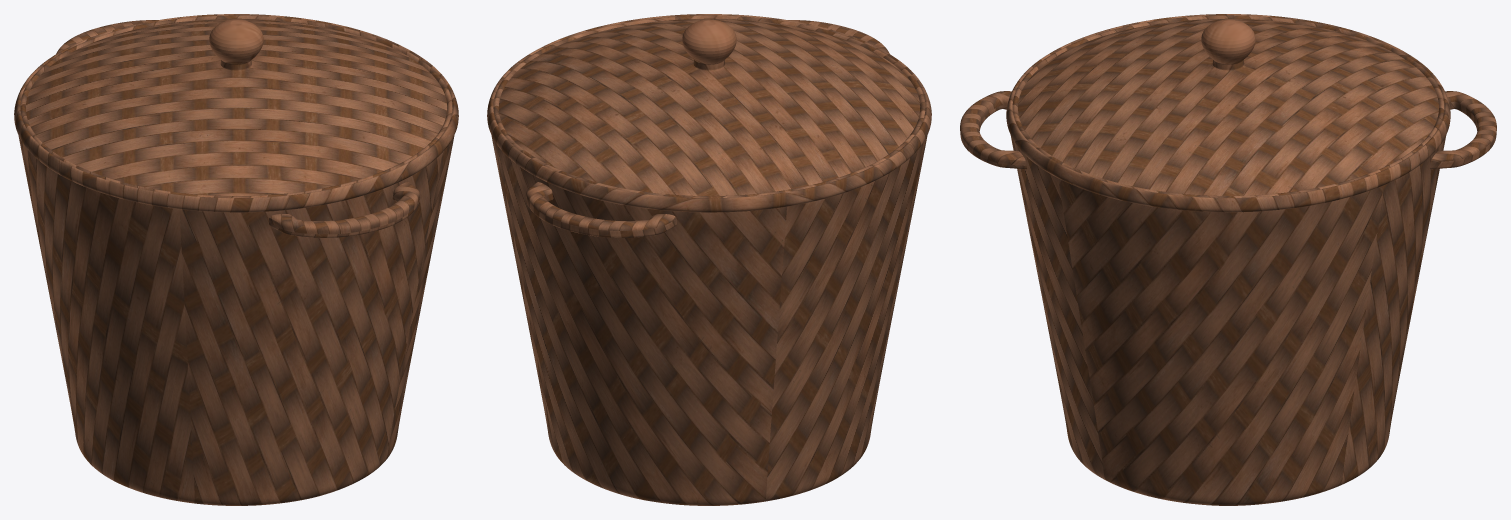
File: basket2 Lid.fbx
3 renders of one model, left to right at view 1: azimuth 30°, elevation 25°; view 2: azimuth 150°, elevation 25°; view 3: azimuth 270°, elevation 25°, orthographic.
Visible parts, largest first — view 1: Cylinder.004, Lid, Handle1, Handle2; view 2: Cylinder.004, Lid, Handle2, Handle1; view 3: Cylinder.004, Lid, Handle2, Handle1.
Part boxes in pixels (x1=…): Cylinder.004: x1=14, y1=14, x2=458, y2=505; Lid: x1=26, y1=18, x2=446, y2=195; Handle1: x1=269, y1=182, x2=419, y2=237; Handle2: x1=56, y1=20, x2=157, y2=53; Cylinder.004: x1=487, y1=14, x2=931, y2=505; Lid: x1=498, y1=18, x2=920, y2=195; Handle2: x1=526, y1=182, x2=676, y2=237; Handle1: x1=788, y1=20, x2=889, y2=53; Cylinder.004: x1=1006, y1=14, x2=1450, y2=505; Lid: x1=1018, y1=18, x2=1438, y2=195; Handle2: x1=1430, y1=91, x2=1496, y2=169; Handle1: x1=960, y1=91, x2=1026, y2=169.
Bounding box in the file's own units: 67.52 × 70.18 × 81.56.
Materials: 1 (1 with a texture image).
